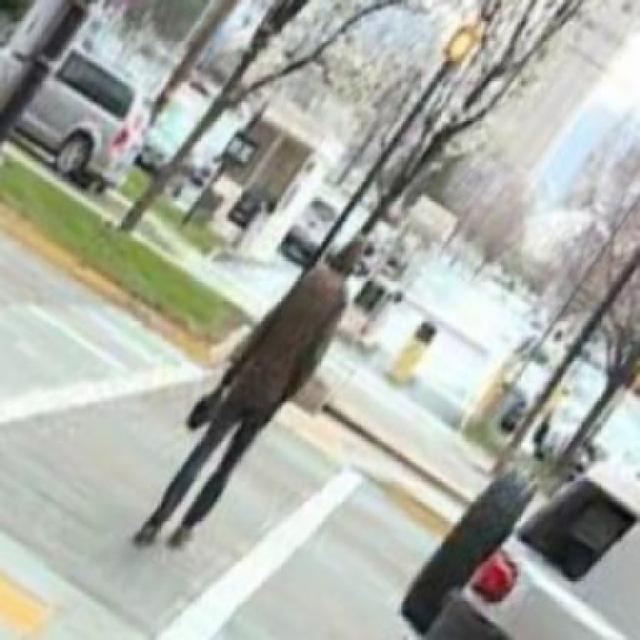Person: (120, 224, 378, 562)
